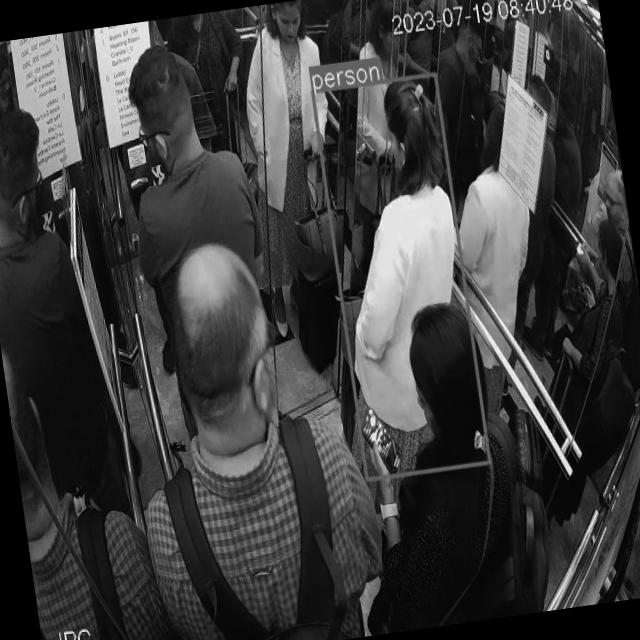person: (111, 232, 395, 640), (317, 73, 488, 476), (356, 294, 558, 632), (0, 112, 139, 525), (0, 319, 168, 640), (108, 54, 278, 310), (222, 1, 339, 347), (513, 205, 640, 506), (593, 167, 640, 398)
